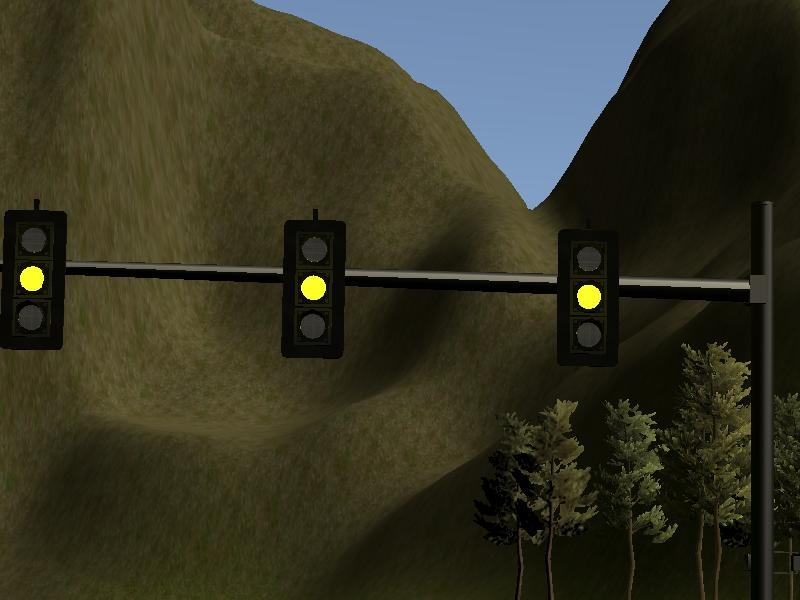YELLOW: (279, 214, 348, 360), (554, 223, 623, 369), (1, 205, 69, 351)
